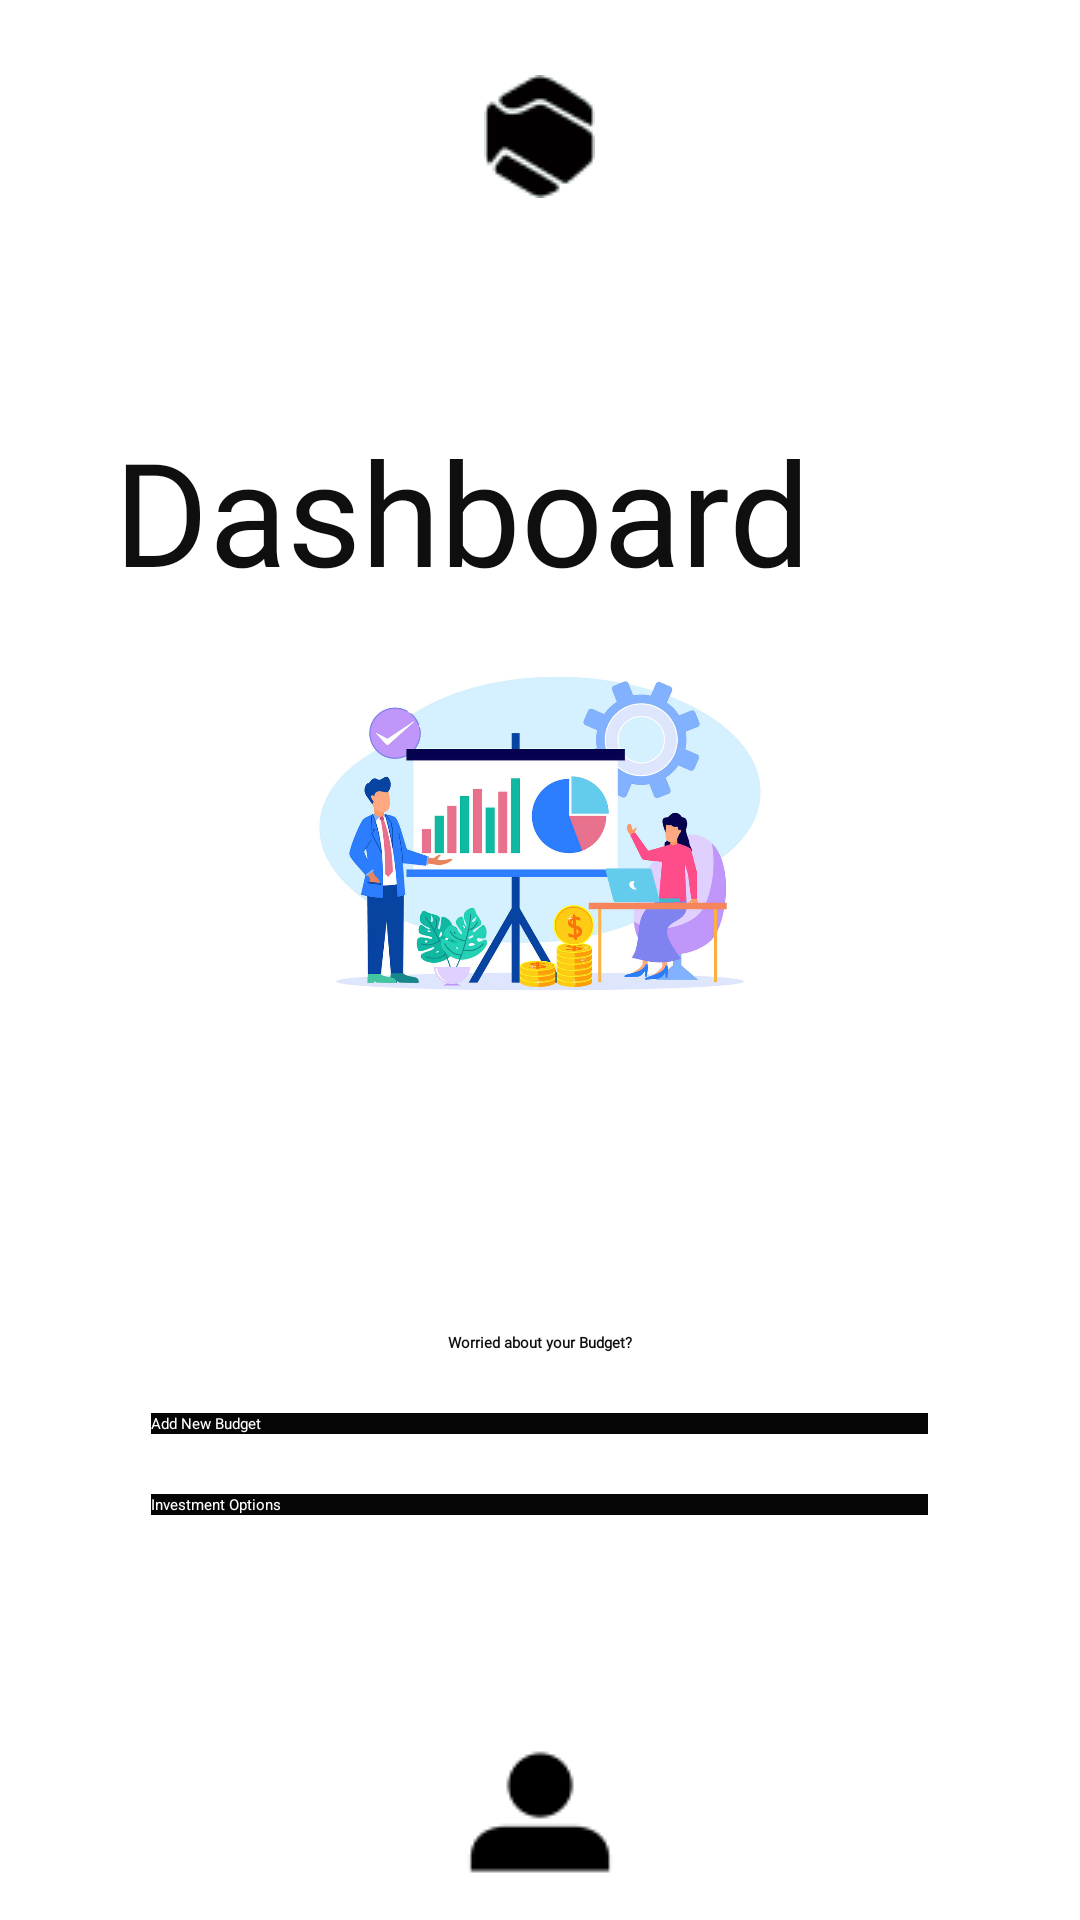

Named icons in this screenshot (1080px×1920px) and their bounding boxes, BBox(x1, y1, x2, y2):
profile: BBox(470, 1751, 610, 1873)
